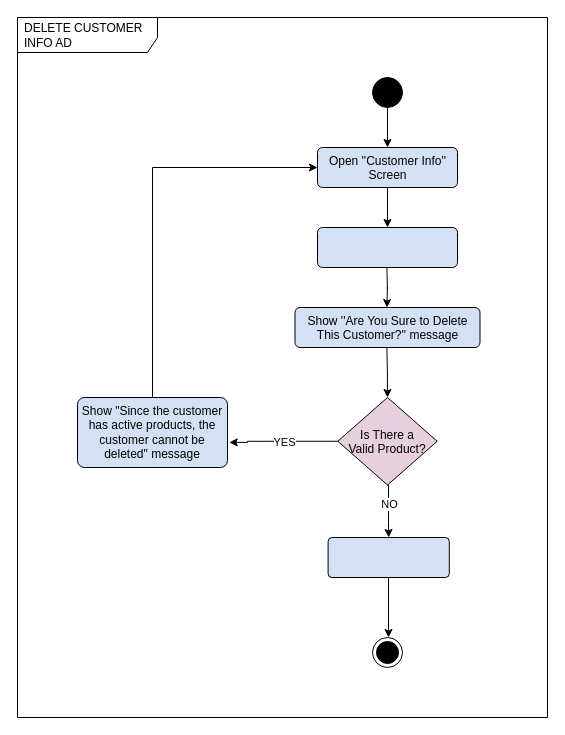
The diagram is 565 pixels wide and 735 high, and some of its shapes have lost their labels. Here are the shapes that lost their labels. From the top down, the centre of each, then its label:
At point (387, 247): "Click the Trash Icon".
At point (388, 557): "Delete Customer Information".
